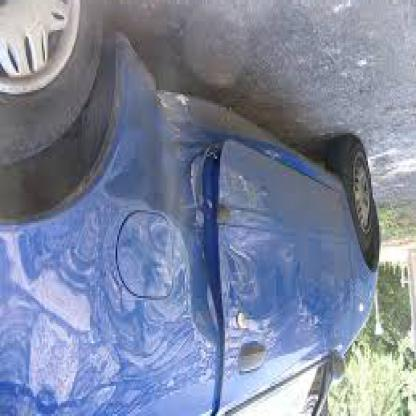dent: (2, 230, 231, 413)
